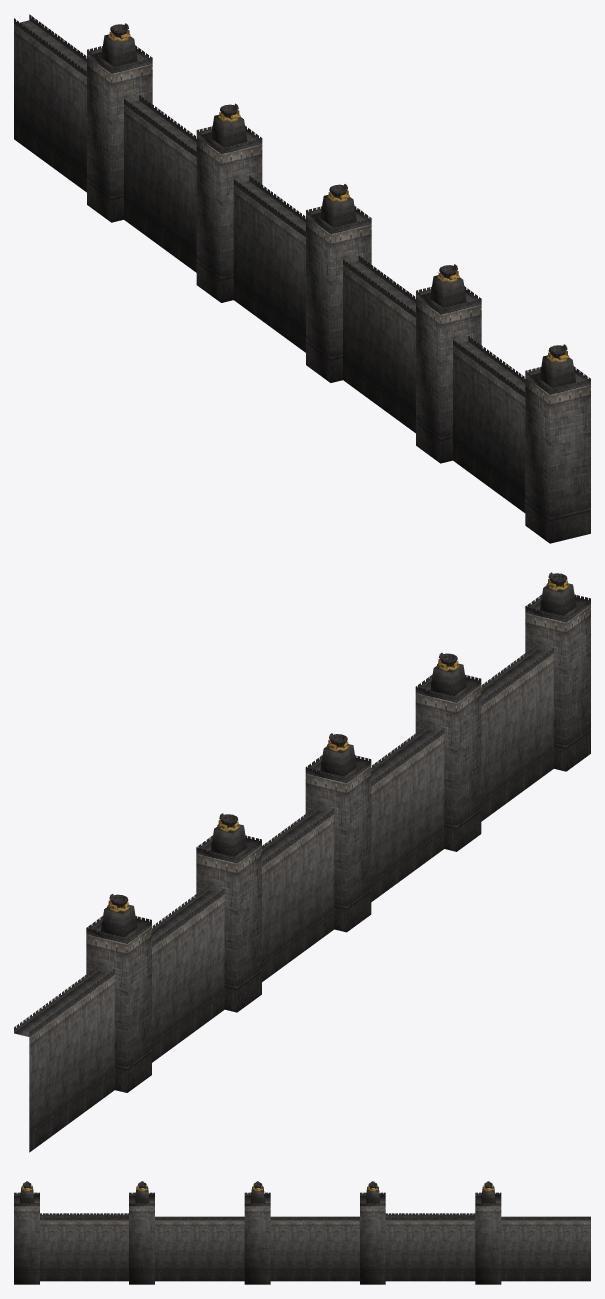
The model's file is palace_well.glb.
The picture shows the model from 3 angles, top to bottom: view 1: azimuth 30°, elevation 25°; view 2: azimuth 150°, elevation 25°; view 3: azimuth 270°, elevation 25°; orthographic projection. The views are drawn at different scales.
Visible parts, largest first — view 1: Survival_Palace_wall01_orwall, Survival_Palace_wall01_ealpha, Survival_Palace_wall01_fire; view 2: Survival_Palace_wall01_orwall, Survival_Palace_wall01_ealpha, Survival_Palace_wall01_fire; view 3: Survival_Palace_wall01_orwall, Survival_Palace_wall01_ealpha, Survival_Palace_wall01_fire.
Boxes of the visible parts, x1=… form: Survival_Palace_wall01_orwall: x1=14, y1=20, x2=590, y2=543; Survival_Palace_wall01_ealpha: x1=14, y1=14, x2=590, y2=397; Survival_Palace_wall01_fire: x1=108, y1=23, x2=569, y2=362; Survival_Palace_wall01_orwall: x1=14, y1=583, x2=590, y2=1152; Survival_Palace_wall01_ealpha: x1=14, y1=594, x2=590, y2=1036; Survival_Palace_wall01_fire: x1=107, y1=572, x2=569, y2=912; Survival_Palace_wall01_orwall: x1=14, y1=1186, x2=590, y2=1284; Survival_Palace_wall01_ealpha: x1=14, y1=1192, x2=590, y2=1220; Survival_Palace_wall01_fire: x1=22, y1=1181, x2=493, y2=1191.
Size of the model in its own units: 15.72 by 66.94 by 364.
Materials: 3 (3 with a texture image).
